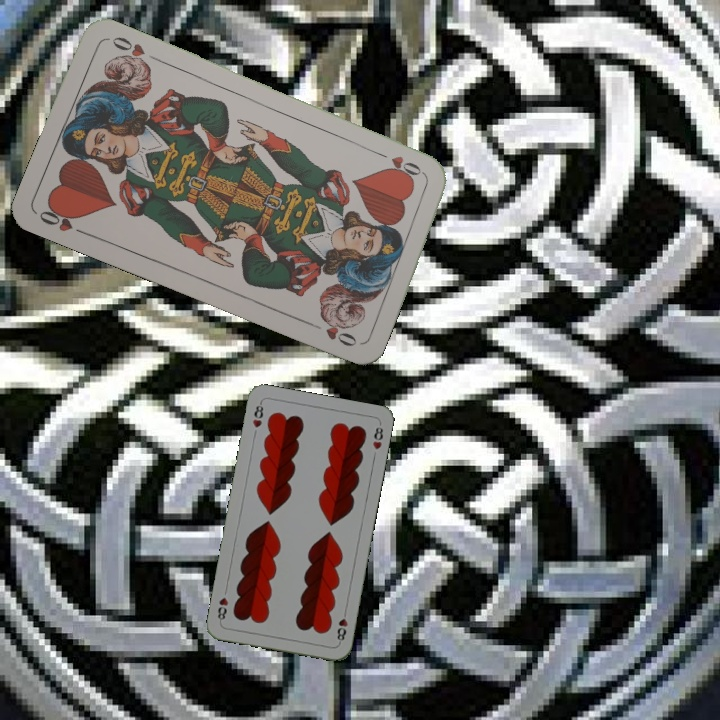H8: (333, 605, 350, 646), (248, 398, 266, 430)
HO: (35, 201, 90, 238), (372, 147, 428, 180)
